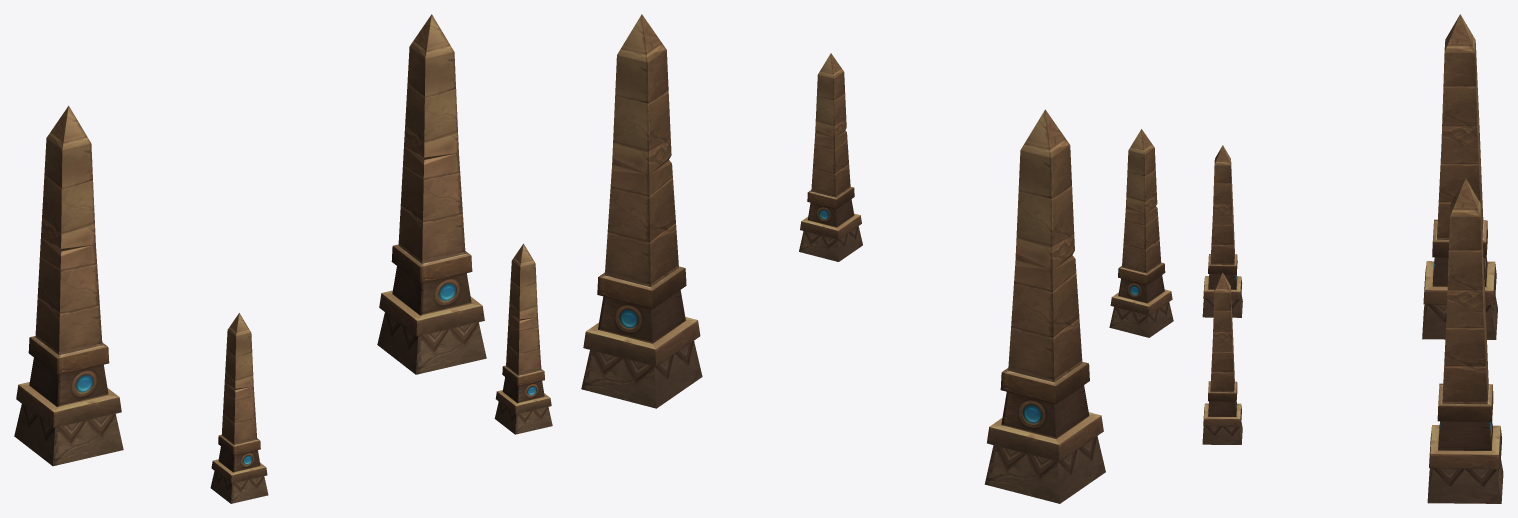
The model's file is Area_05_10.FBX.
3 renders of one model, left to right at view 1: azimuth 30°, elevation 25°; view 2: azimuth 150°, elevation 25°; view 3: azimuth 270°, elevation 25°, orthographic. The views are drawn at different scales.
Parts seen in each view (by area): view 1: Area_05_10; view 2: Area_05_10; view 3: Area_05_10.
Boxes of the visible parts, left/top/right/bottom form: Area_05_10: left=14, top=14, right=552, bottom=503; Area_05_10: left=581, top=14, right=1173, bottom=503; Area_05_10: left=1202, top=14, right=1503, bottom=503.
Bounding box in the file's own units: 3845 × 2835 × 2495.
